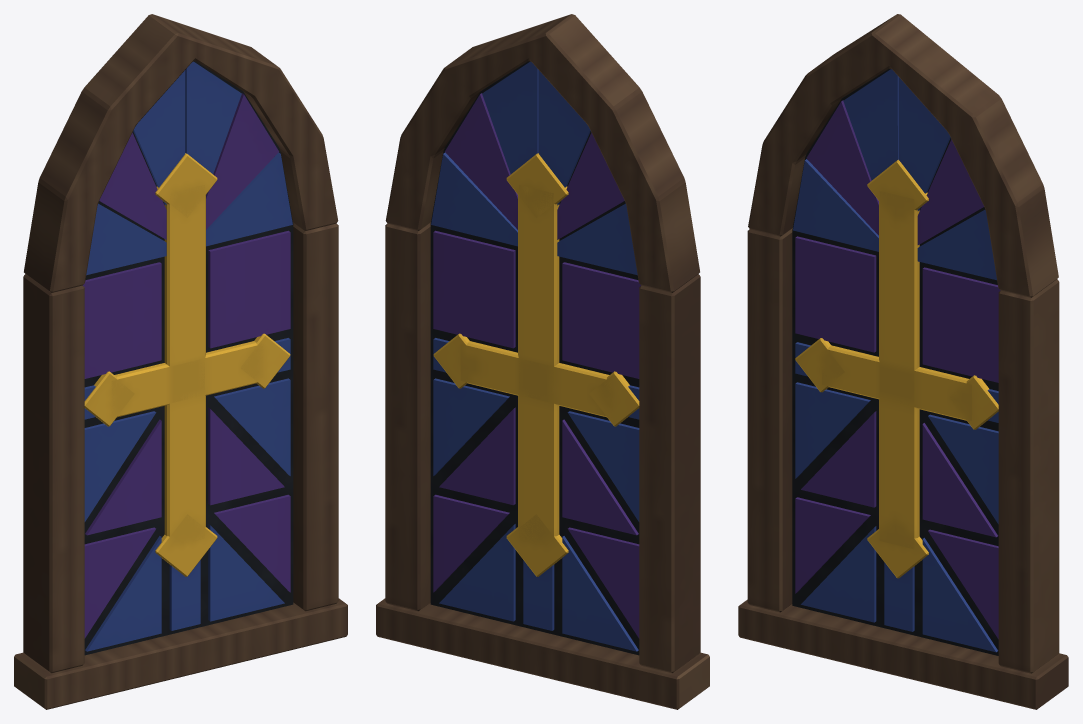
File: window_arch_01_godot.glb
The picture shows the model from 3 angles, left to right: view 1: azimuth 30°, elevation 25°; view 2: azimuth 150°, elevation 25°; view 3: azimuth 330°, elevation 25°; orthographic projection.
Visible parts, largest first — view 1: window_arch_01; view 2: window_arch_01; view 3: window_arch_01.
Part boxes in pixels (left/top/right/bottom): window_arch_01: left=14, top=14, right=347, bottom=709; window_arch_01: left=376, top=14, right=709, bottom=709; window_arch_01: left=738, top=14, right=1068, bottom=709.
Size of what is drawn, in the model's own units: 0.86 by 1.74 by 0.16.
5 materials, 5 textured.
